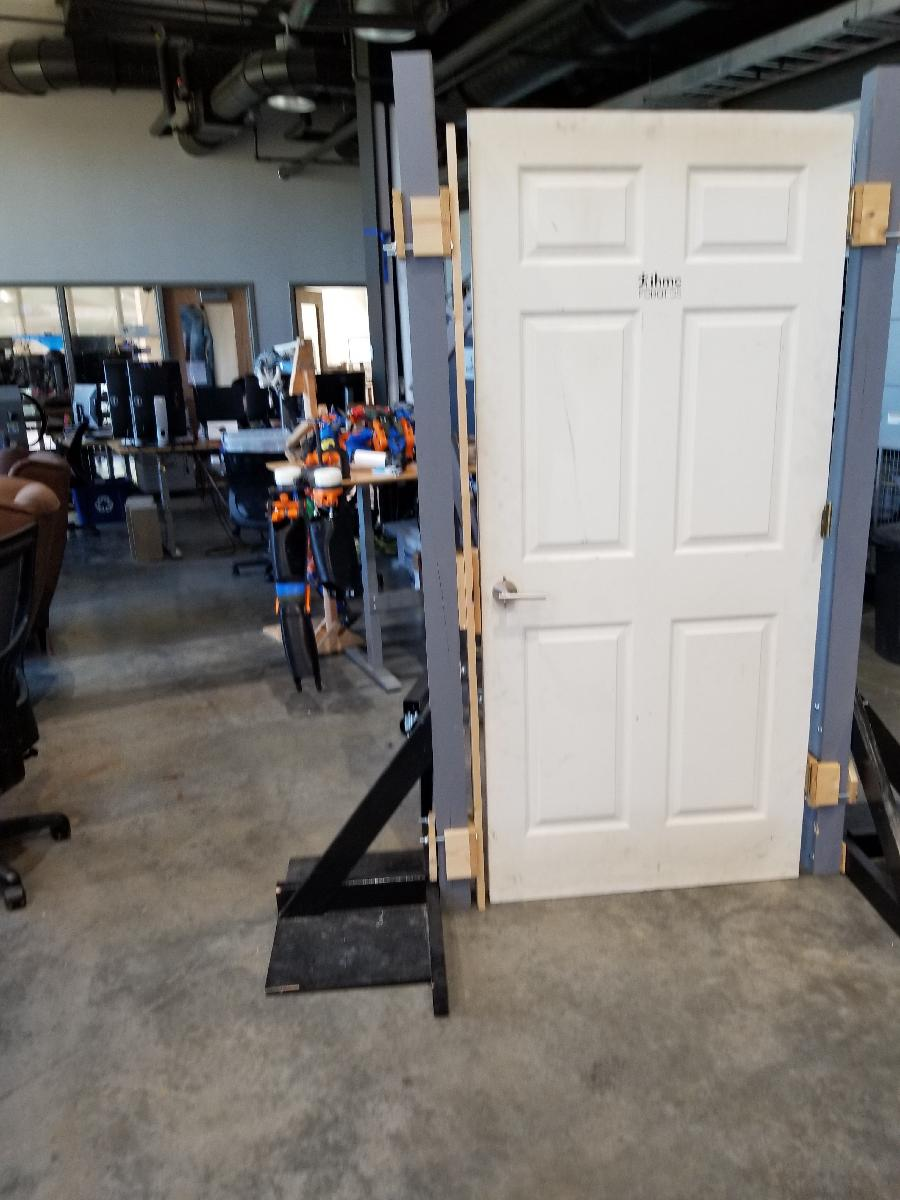door: (464, 103, 856, 915)
doorHandle: (487, 577, 545, 610)
